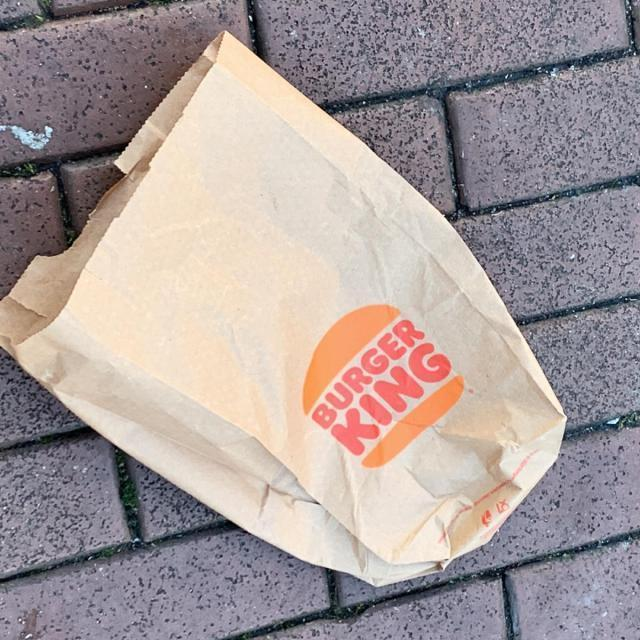Paper: (0, 29, 569, 589)
